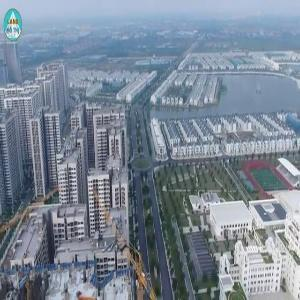drone: (106, 230, 142, 266)
